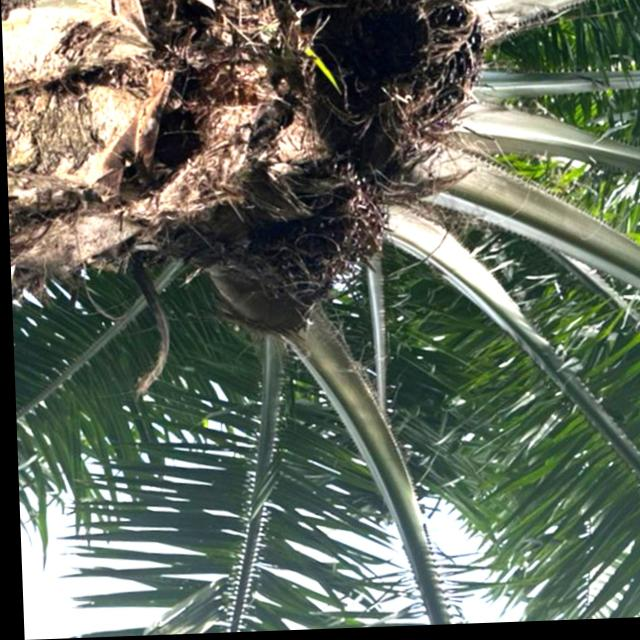ripe: (241, 169, 399, 323), (345, 0, 493, 152)
